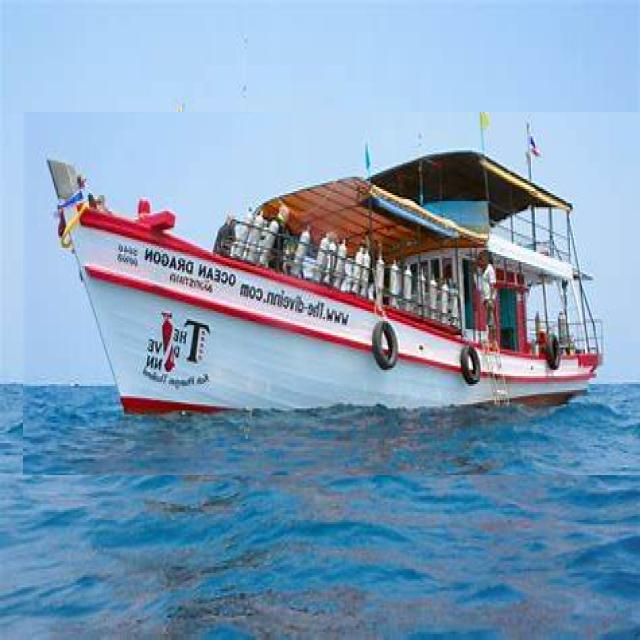Fishing Boat: (23, 112, 640, 475)
